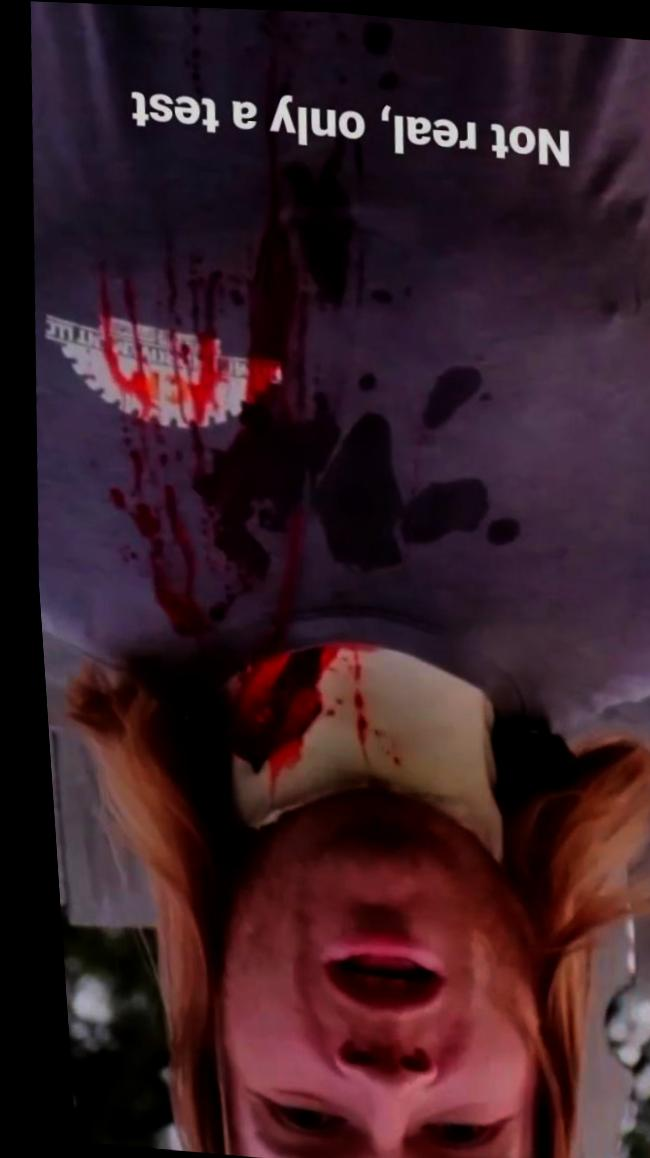Fire: (86, 48, 393, 654), (219, 643, 368, 796)
